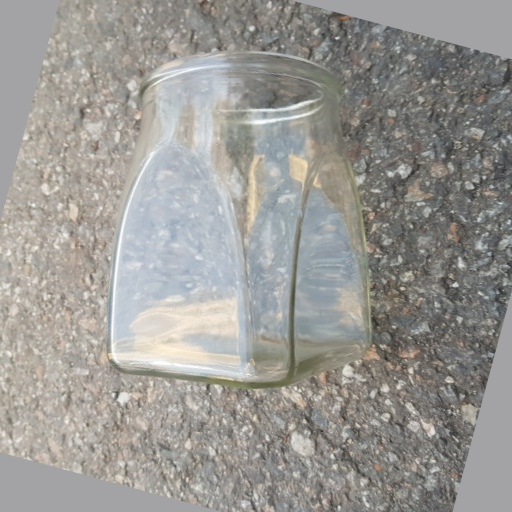Glass_5: (106, 57, 378, 383)
